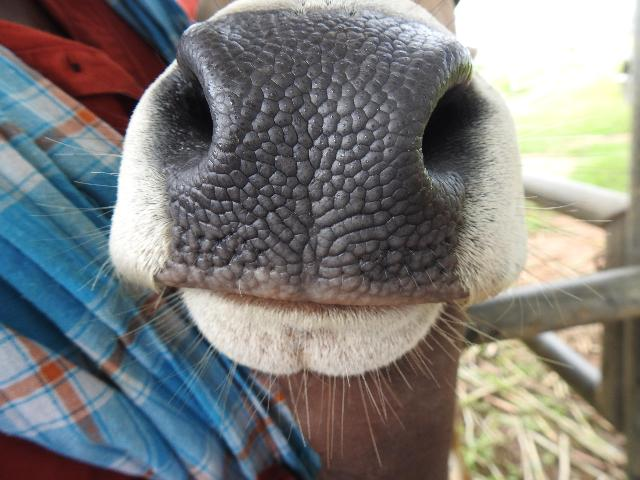Muzzle: (211, 19, 417, 283)
